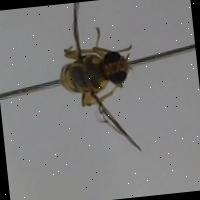Oriental-fruit-fly: (45, 0, 152, 164)
